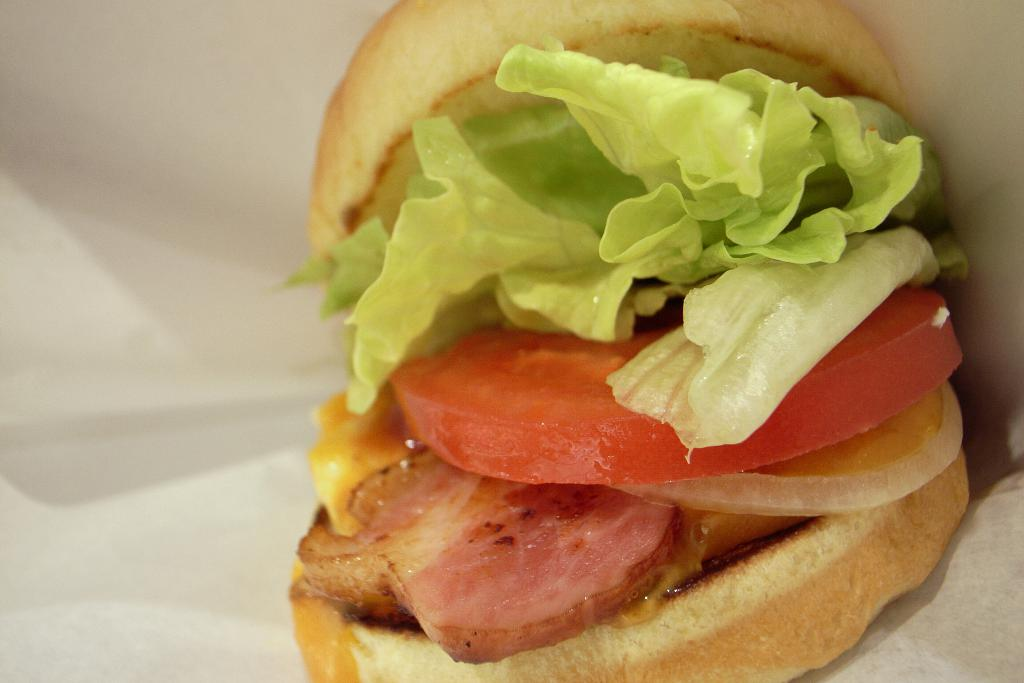Hamburger: (272, 0, 970, 682)
